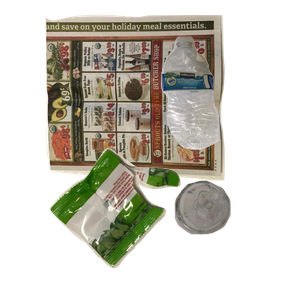glass: (172, 178, 300, 300)
paper: (42, 12, 260, 185)
plastic: (159, 34, 300, 176)
trash: (47, 146, 220, 300)
